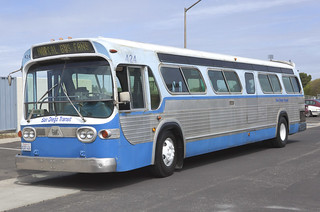bus: (15, 37, 307, 177)
